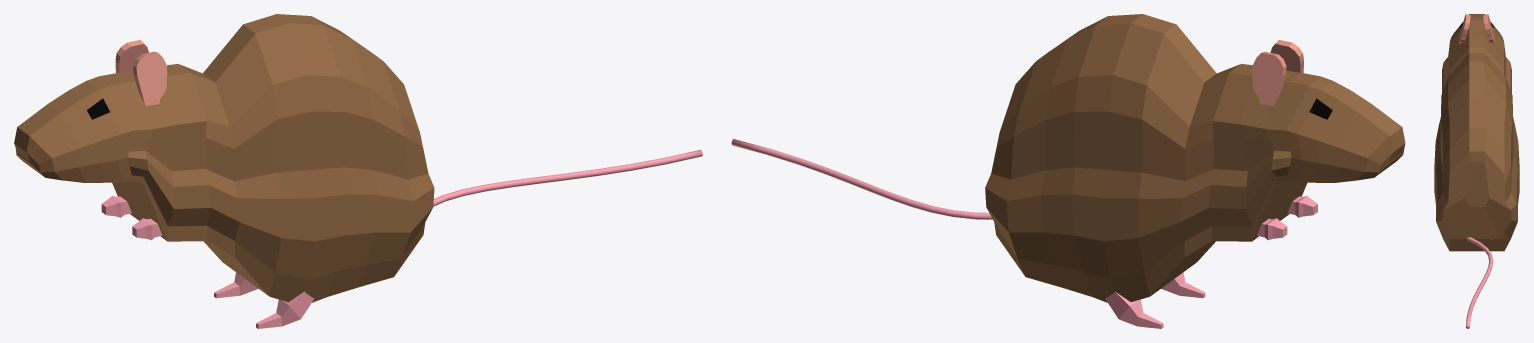
The model's file is Rat 1.fbx.
3 renders of one model, left to right at view 1: azimuth 30°, elevation 25°; view 2: azimuth 150°, elevation 25°; view 3: azimuth 270°, elevation 25°, orthographic. The views are drawn at different scales.
Visible parts, largest first — view 1: Rat; view 2: Rat; view 3: Rat.
Boxes of the visible parts, box(x1,y1,x2,y2) form: Rat: box(14, 14, 702, 328); Rat: box(731, 14, 1405, 328); Rat: box(1434, 14, 1519, 328).
Bounding box in the file's own units: 456 × 188 × 80.94.
